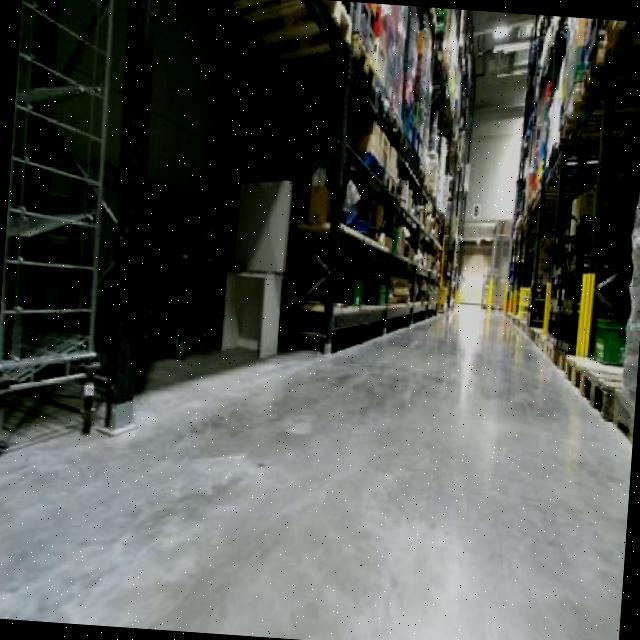pallet: (573, 360, 617, 429), (556, 344, 587, 399)
